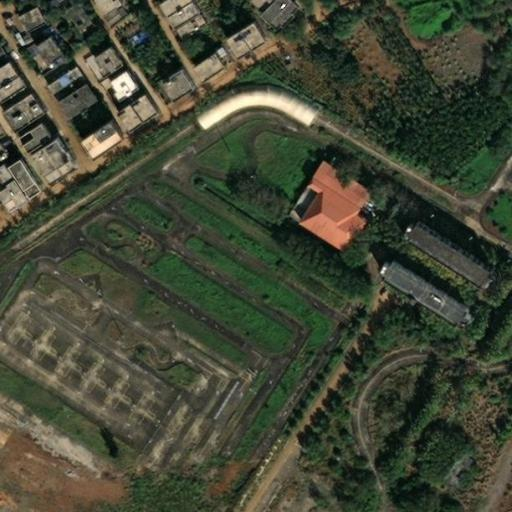building: (275, 156, 371, 251), (366, 262, 458, 329), (398, 219, 486, 287), (188, 88, 310, 131), (73, 121, 115, 160), (49, 78, 90, 116), (110, 95, 150, 132), (0, 95, 36, 134), (218, 26, 256, 61), (39, 65, 78, 97), (153, 68, 186, 101), (18, 143, 50, 177), (184, 51, 218, 82), (9, 5, 39, 35), (86, 46, 115, 77), (103, 70, 132, 100), (168, 14, 199, 41), (261, 2, 290, 30), (13, 123, 40, 153), (59, 4, 86, 34), (34, 135, 61, 164), (252, 0, 283, 23), (28, 42, 54, 68), (124, 22, 151, 47), (0, 175, 20, 208), (153, 0, 183, 14), (33, 169, 54, 188), (48, 156, 66, 175), (97, 9, 116, 27), (14, 182, 32, 200), (10, 133, 24, 145)
